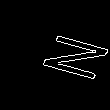N_W: (13, 27, 97, 83)
